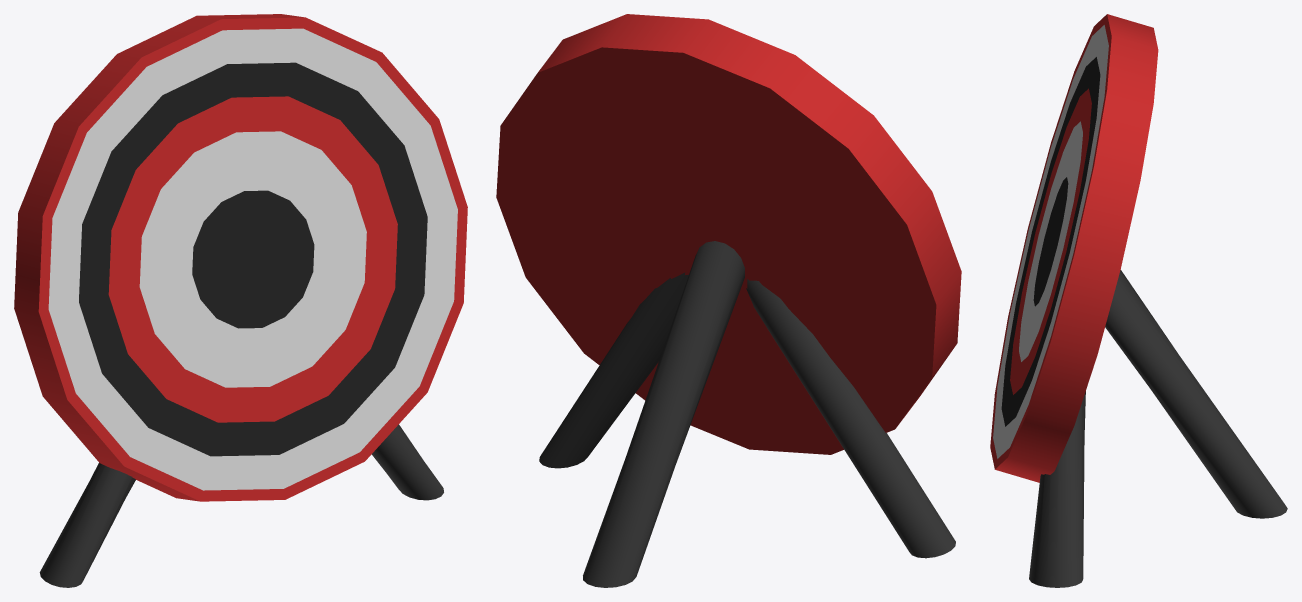
Rendered from Target.fbx.
3 views of the same model, side by side, from view 1: azimuth 30°, elevation 25°; view 2: azimuth 150°, elevation 25°; view 3: azimuth 270°, elevation 25° (orthographic). The views are drawn at different scales.
Parts seen in each view (by area): view 1: Target; view 2: Target; view 3: Target.
Boxes of the visible parts, x1,y1,x2,y2 form: Target: [14, 14, 467, 587]; Target: [496, 14, 961, 587]; Target: [990, 14, 1287, 587].
Bounding box in the file's own units: 48.71 × 53.11 × 30.86.
1 material, 1 textured.
